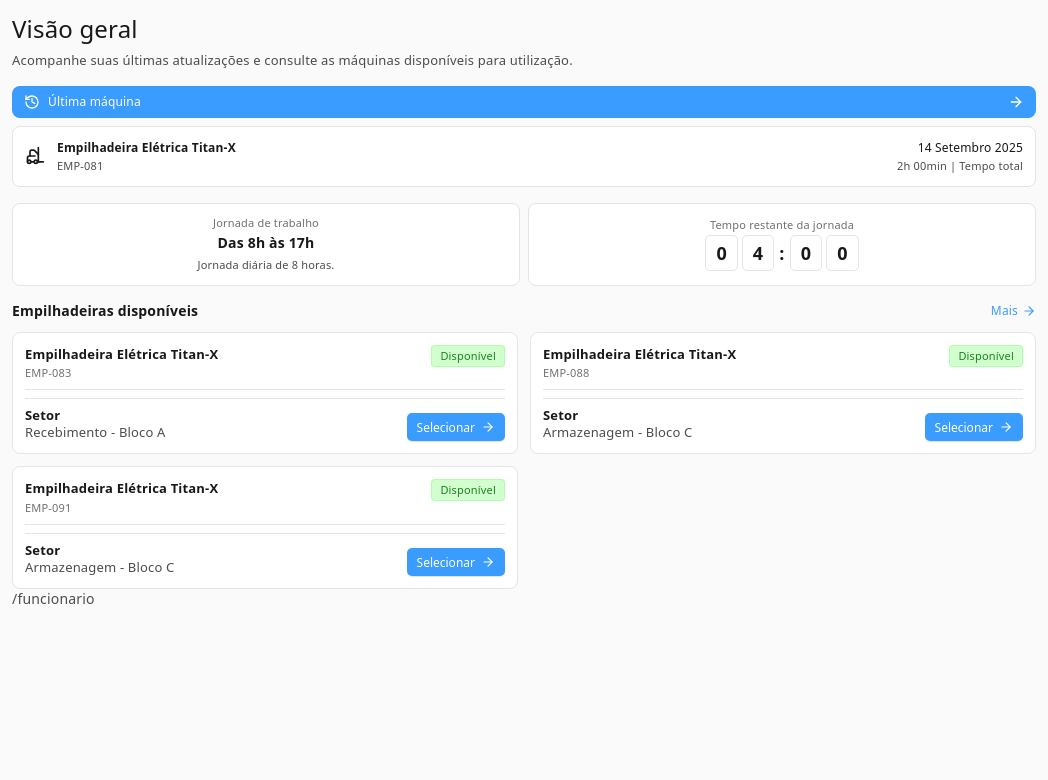
it: EmployeeHomePage › "Selecionar" opens the machine detail
Click the button "Selecionar" in the row of "Recebimento - Bloco A": click(456, 427) [406,413,505,441]
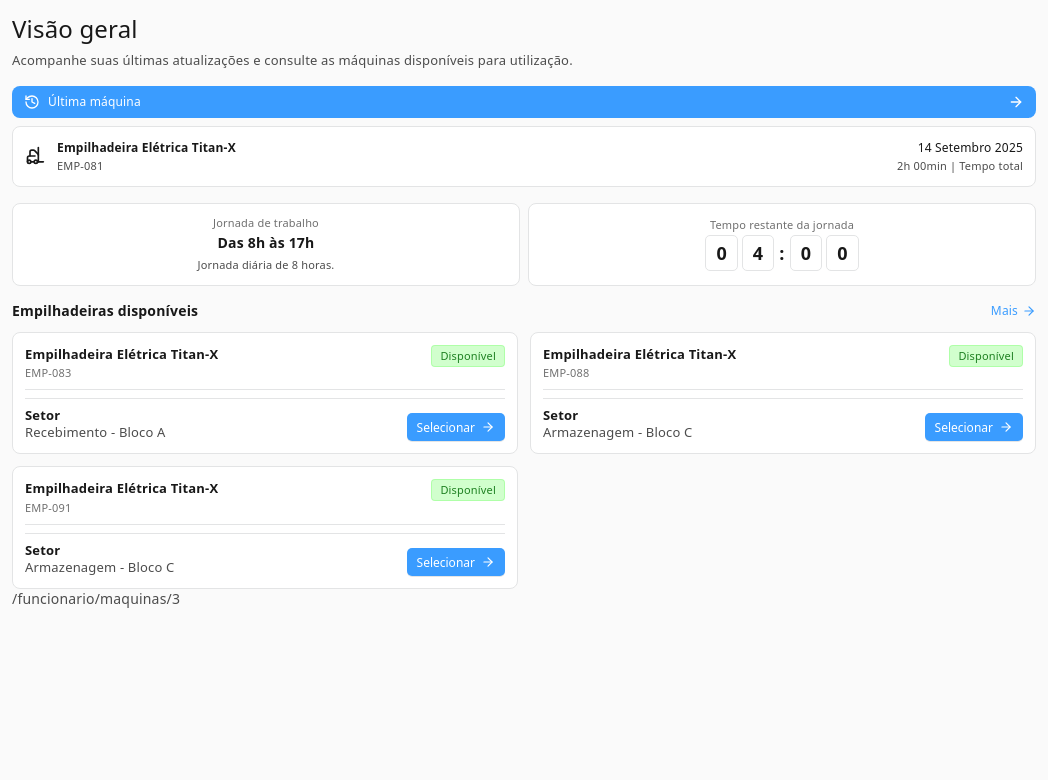
Result: the text with test id "where" reads "/funcionario/maquinas/3" at [12,589,180,608]
